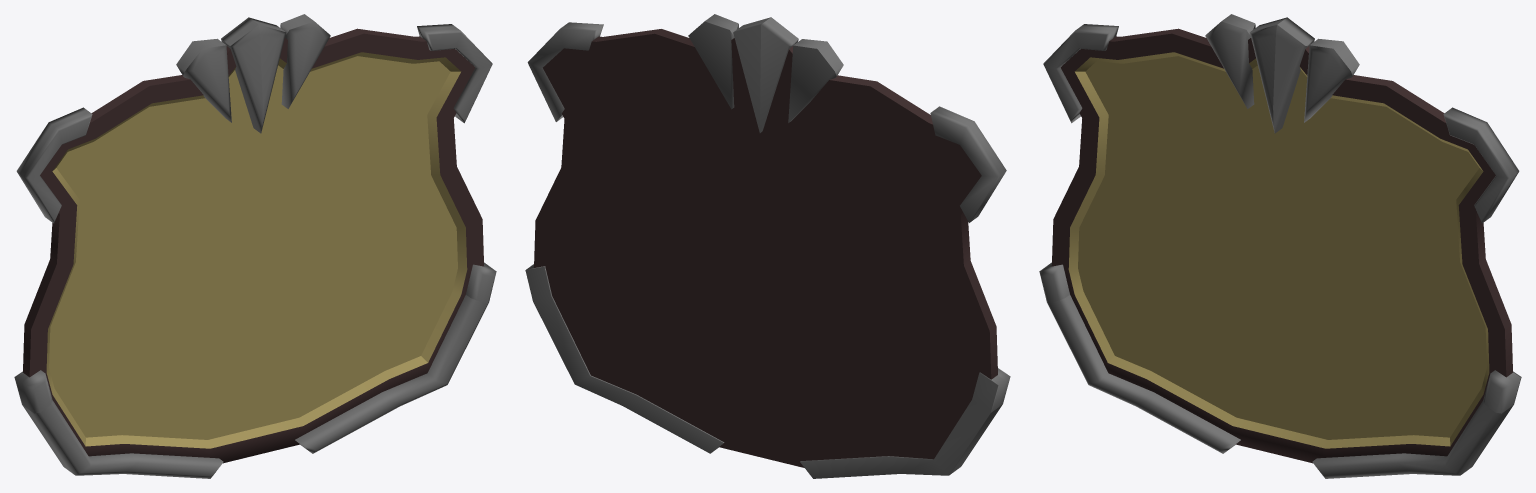
Rendered from Quest board 1.fbx.
3 renders of one model, left to right at view 1: azimuth 30°, elevation 25°; view 2: azimuth 150°, elevation 25°; view 3: azimuth 330°, elevation 25°, orthographic.
Parts seen in each view (by area): view 1: Readyer_metal1; view 2: Readyer_metal1; view 3: Readyer_metal1.
Boxes of the visible parts, x1,y1,x2,y2 form: Readyer_metal1: (14,14,496,478); Readyer_metal1: (525,14,1010,478); Readyer_metal1: (1039,14,1521,478).
Bounding box in the file's own units: 88.86 × 79.44 × 5.44.
